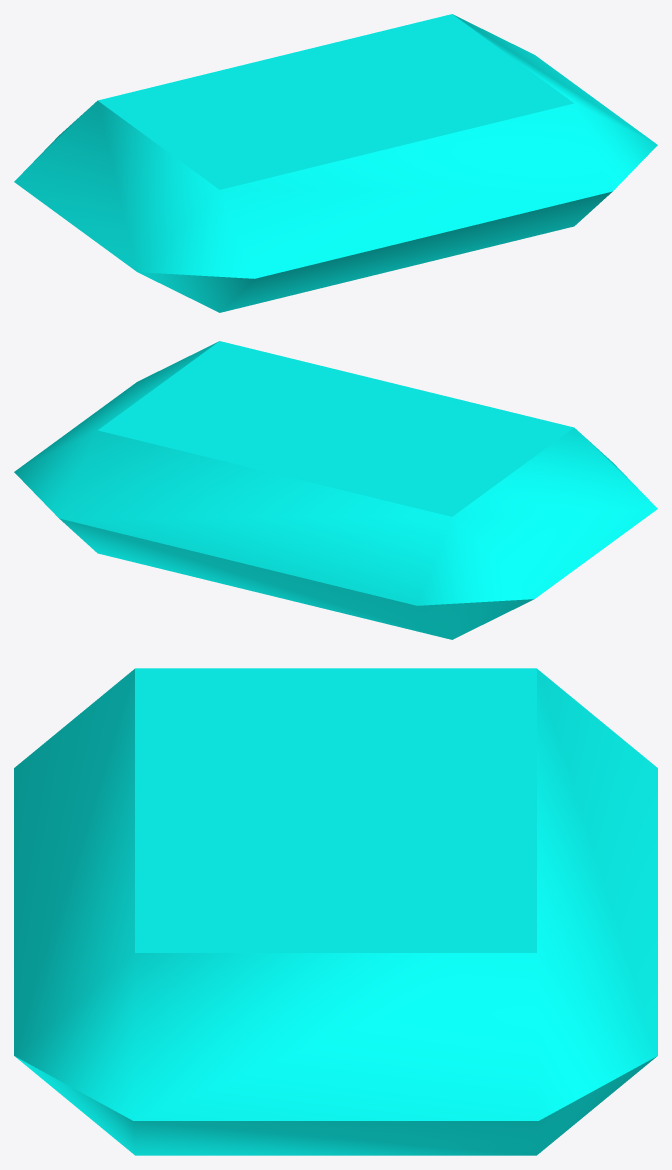
Rendered from gem2.glb.
3 views of the same model, one above another, from view 1: azimuth 30°, elevation 25°; view 2: azimuth 150°, elevation 25°; view 3: azimuth 270°, elevation 25° (orthographic). The views are drawn at different scales.
Parts seen in each view (by area): view 1: pCube1; view 2: pCube1; view 3: pCube1.
Part boxes in pixels (box(x1,y1,x2,y2)): pCube1: box(14, 14, 657, 312); pCube1: box(14, 341, 657, 639); pCube1: box(14, 668, 657, 1155).
Bounding box in the file's own units: 9.46 × 2.14 × 6.16.
1 material, 1 textured.
